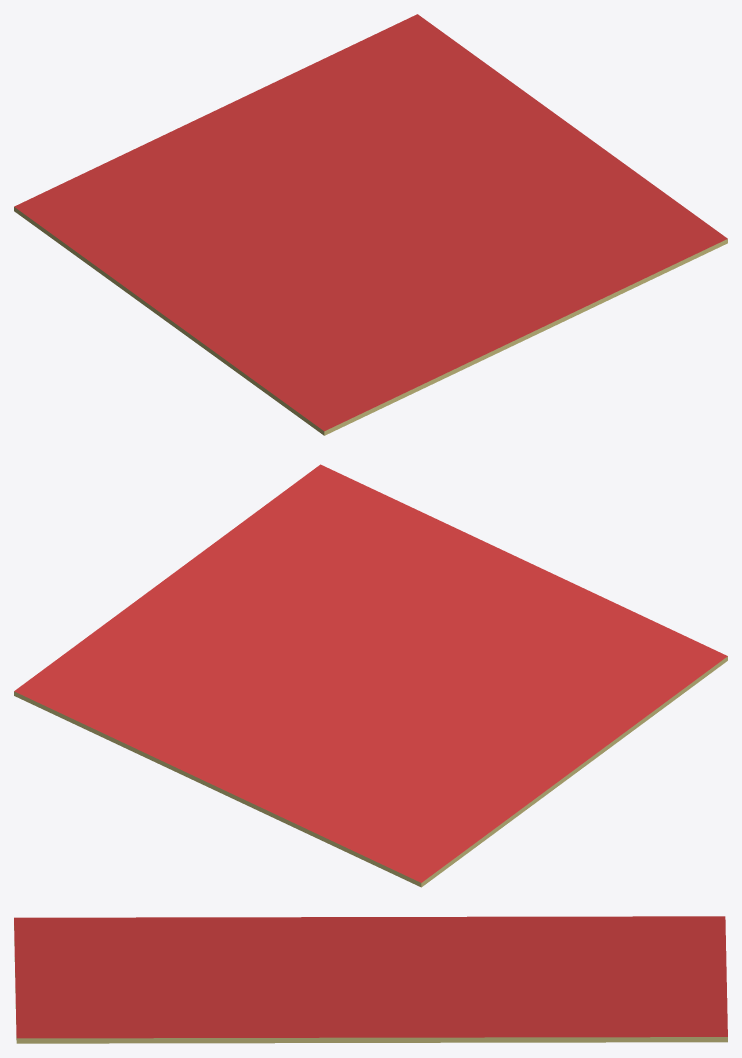
3 renders of one model, top to bottom at view 1: azimuth 30°, elevation 25°; view 2: azimuth 150°, elevation 25°; view 3: azimuth 270°, elevation 25°, orthographic. The views are drawn at different scales.
Bounding box in the file's own units: 9.39 × 12.34 × 2.15.
